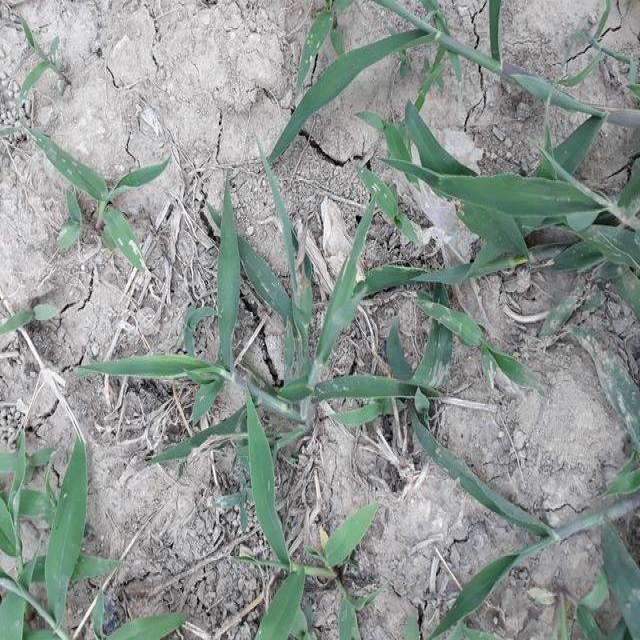weed: (83, 277, 471, 440), (394, 119, 640, 267), (240, 405, 368, 635), (14, 114, 169, 268), (2, 433, 102, 640)
